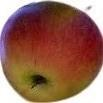fruit: (1, 1, 103, 103)
